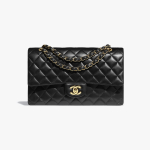channel: (26, 46, 135, 114), (45, 57, 95, 73), (61, 77, 86, 103), (101, 65, 118, 95)
